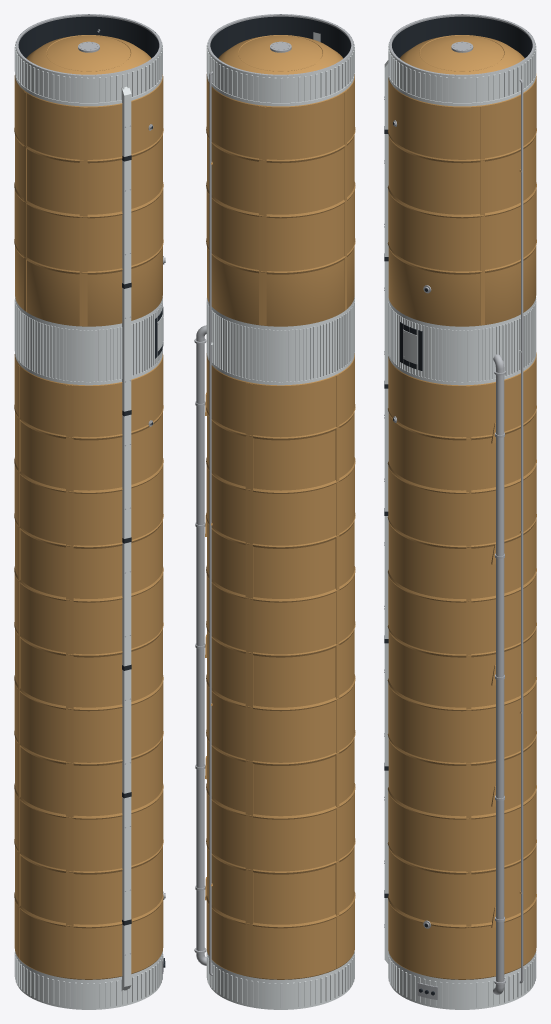
File: tank_s1_xl_hydrolox.fbx
3 views of the same model, side by side, from view 1: azimuth 30°, elevation 25°; view 2: azimuth 150°, elevation 25°; view 3: azimuth 270°, elevation 25° (orthographic).
Parts seen in each view (by area): view 1: tank_s1_xl_hydrolox_LOD0; view 2: tank_s1_xl_hydrolox_LOD0; view 3: tank_s1_xl_hydrolox_LOD0.
Part boxes in pixels (x1,y1,x2,y2): tank_s1_xl_hydrolox_LOD0: [14, 14, 165, 1009]; tank_s1_xl_hydrolox_LOD0: [194, 14, 355, 1009]; tank_s1_xl_hydrolox_LOD0: [384, 14, 536, 1009].
Size of what is drawn, in the model's own units: 8.71 by 59.2 by 8.79.
